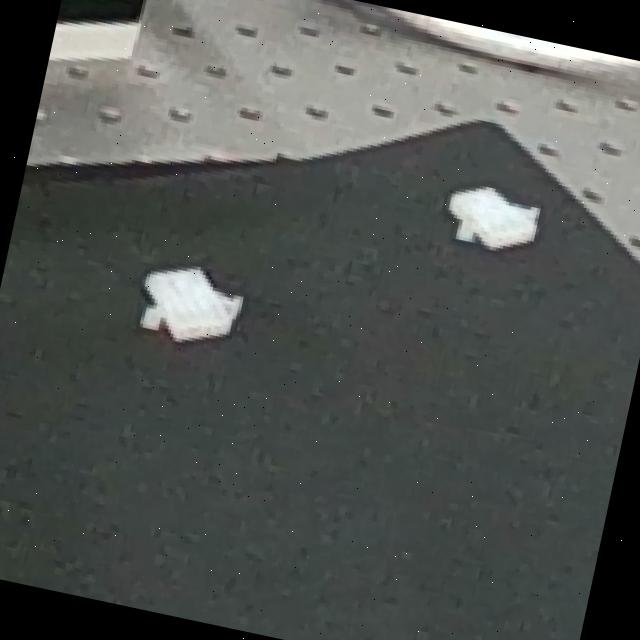pick: (98, 228, 278, 380), (424, 156, 565, 280)
